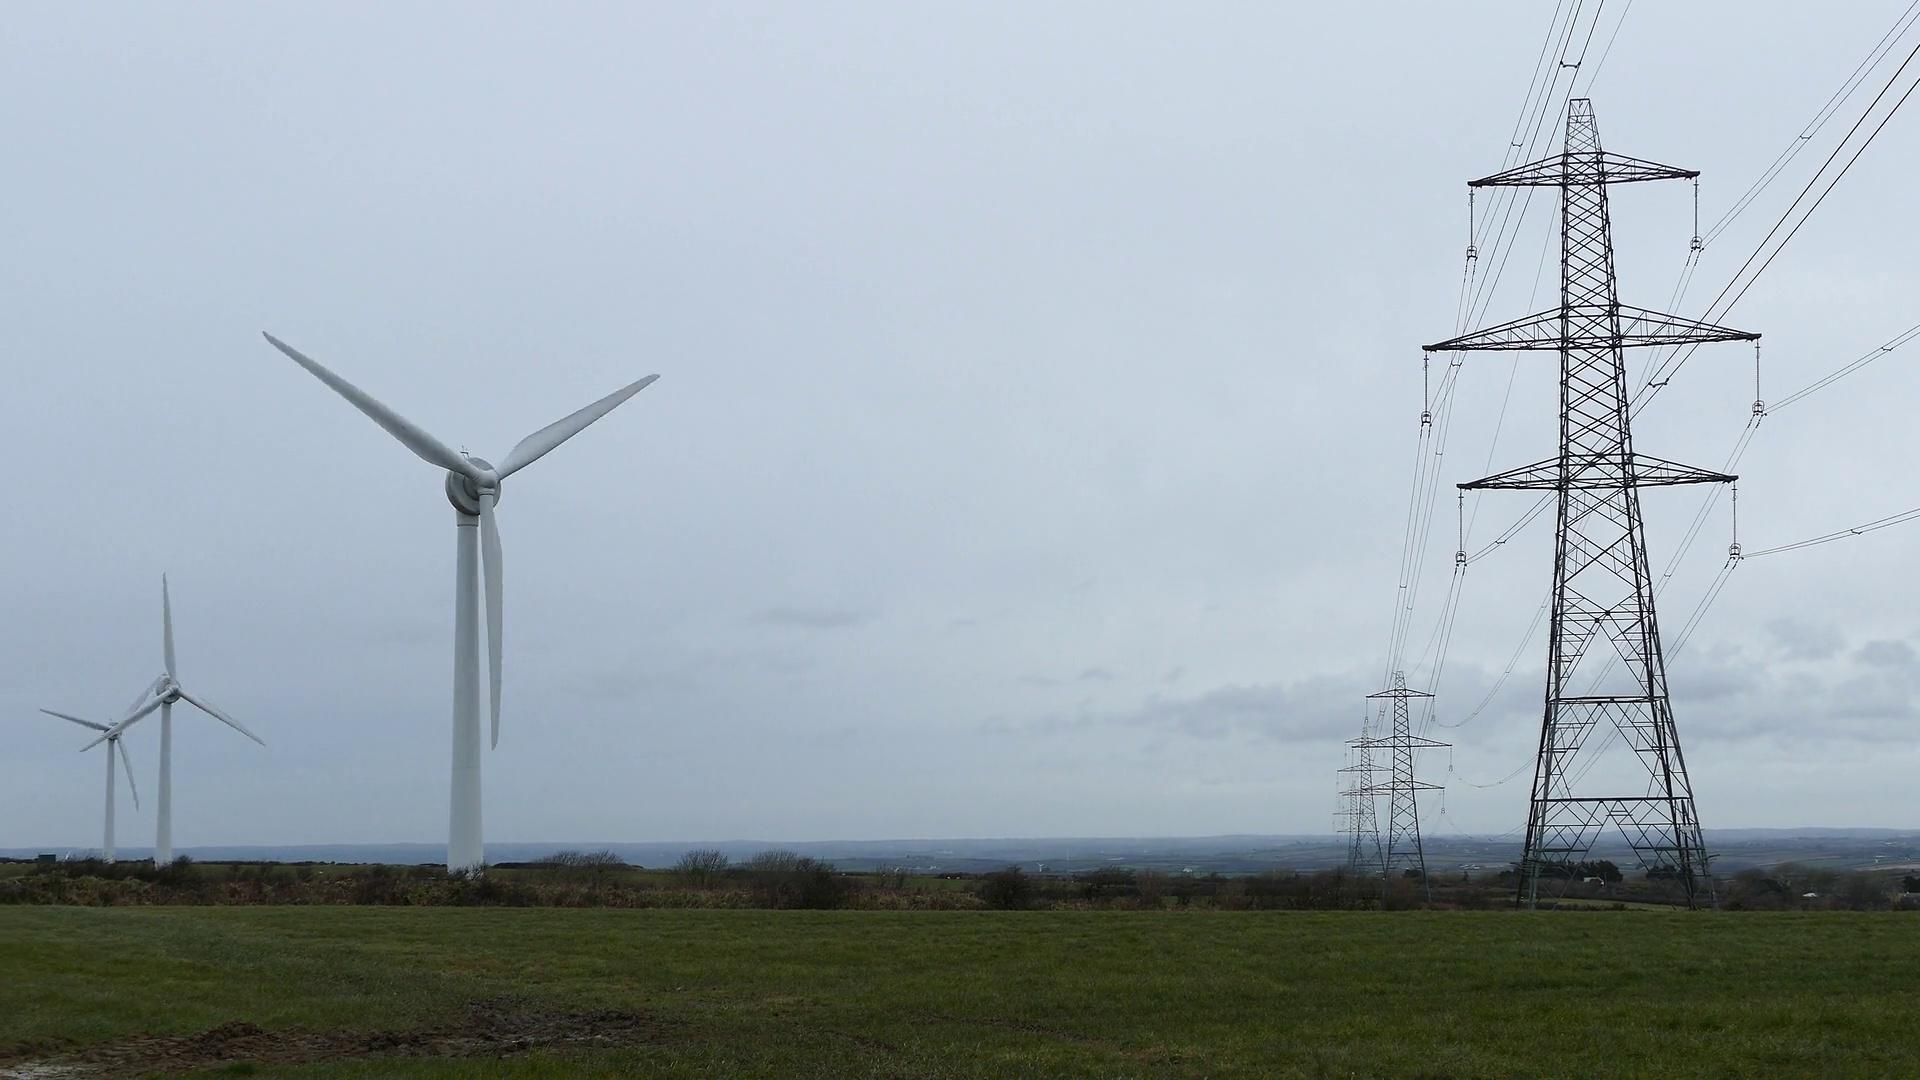cable tower: (1418, 94, 1764, 918), (1354, 671, 1455, 910), (1342, 723, 1395, 890), (1332, 789, 1374, 880)
turbine: (218, 175, 740, 949), (63, 579, 293, 918), (37, 633, 193, 887)
